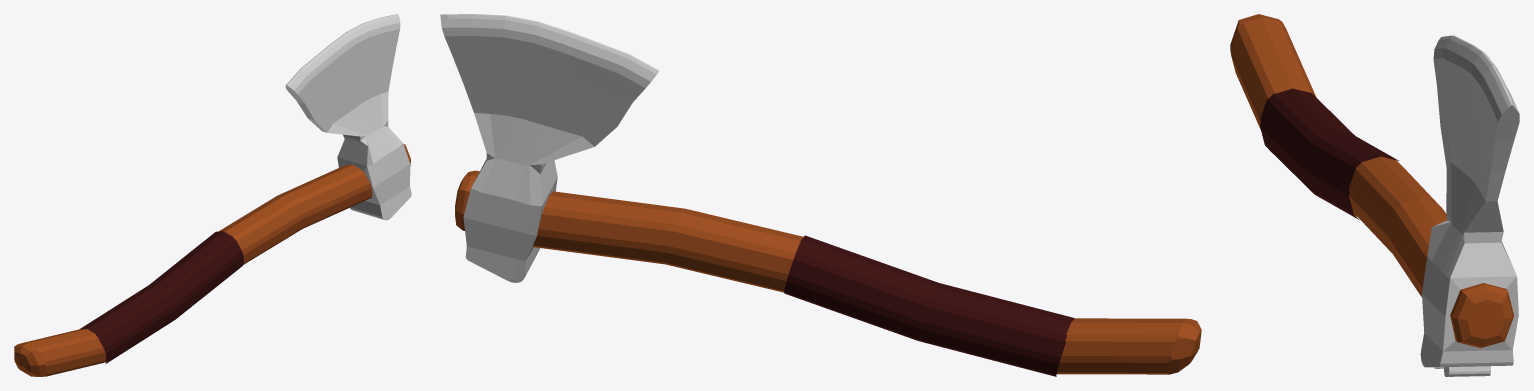
The model's file is axe-lowpoly.glb.
The picture shows the model from 3 angles, left to right: view 1: azimuth 30°, elevation 25°; view 2: azimuth 150°, elevation 25°; view 3: azimuth 270°, elevation 25°; orthographic projection. The views are drawn at different scales.
Parts seen in each view (by area): view 1: Steel, Wood, straich; view 2: Steel, Wood, straich; view 3: Steel, Wood, straich.
Part boxes in pixels (<box>): Steel: <box>285,14,411,220</box>; Wood: <box>14,144,410,376</box>; straich: <box>80,231,243,364</box>; Steel: <box>440,14,659,282</box>; Wood: <box>455,170,1201,374</box>; straich: <box>784,235,1074,376</box>; Steel: <box>1420,35,1519,376</box>; Wood: <box>1230,14,1514,347</box>; straich: <box>1260,88,1398,219</box>.
Bounding box in the file's own units: 507 × 228 × 169.
